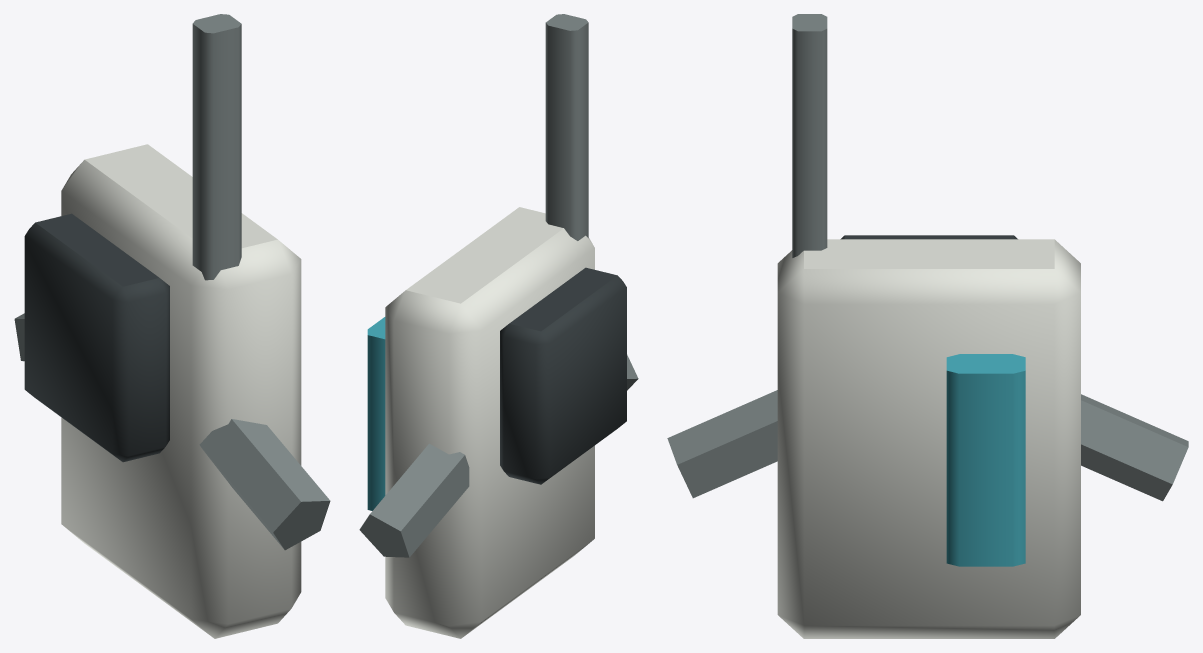
The model's file is person_tool_powerbeam.obj.
The picture shows the model from 3 angles, left to right: view 1: azimuth 30°, elevation 25°; view 2: azimuth 150°, elevation 25°; view 3: azimuth 270°, elevation 25°; orthographic projection. The views are drawn at different scales.
Parts seen in each view (by area): view 1: main_casing, body_interface_unchanged, part_088_utility_steel, part_112_utility_steel; view 2: main_casing, body_interface_unchanged, part_088_utility_steel, part_128_utility_steel, part_100_utility_cyan; view 3: main_casing, part_100_utility_cyan, part_088_utility_steel, part_112_utility_steel, part_128_utility_steel, body_interface_unchanged.
Part boxes in pixels (x1,y1,x2,y2): main_casing: [61, 144, 301, 638]; body_interface_unchanged: [24, 213, 169, 462]; part_088_utility_steel: [192, 14, 241, 280]; part_112_utility_steel: [199, 419, 330, 550]; main_casing: [385, 207, 594, 638]; body_interface_unchanged: [500, 267, 626, 484]; part_088_utility_steel: [545, 14, 588, 240]; part_128_utility_steel: [359, 443, 469, 557]; part_100_utility_cyan: [367, 317, 385, 510]; main_casing: [777, 239, 1080, 638]; part_100_utility_cyan: [946, 354, 1025, 566]; part_088_utility_steel: [792, 14, 827, 257]; part_112_utility_steel: [667, 390, 777, 498]; part_128_utility_steel: [1081, 394, 1188, 501]; body_interface_unchanged: [840, 235, 1017, 239].
Size of the model in its own units: 0.08 by 0.223 by 0.1788.
